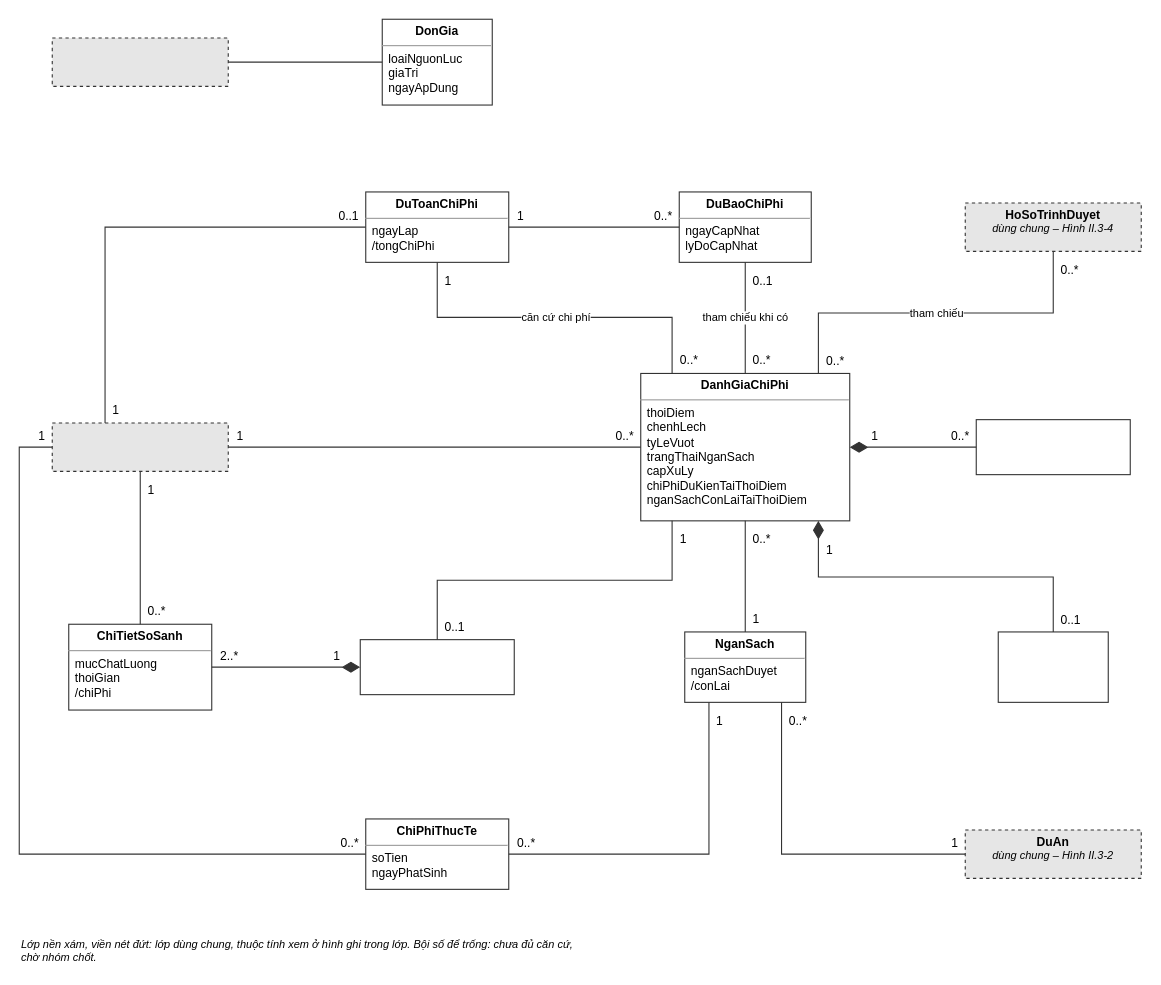
The diagram is 1161 pixels wide and 985 high, and some of its shapes have lost their labels. Each missing label, with the centre of its shape:
"ChiTietBoTri dùng chung – Hình II.3-4" belongs at (x=139, y=61).
"HuongXuLy loai ghiChu" belongs at (x=1052, y=666).
"NguyenNhanVuot noiDung" belongs at (x=1052, y=447).
"PhuongAnBoTri dùng chung – Hình II.3-4" belongs at (x=139, y=446).
"SoSanhPhuongAn thoiDiem" belongs at (x=436, y=667).
